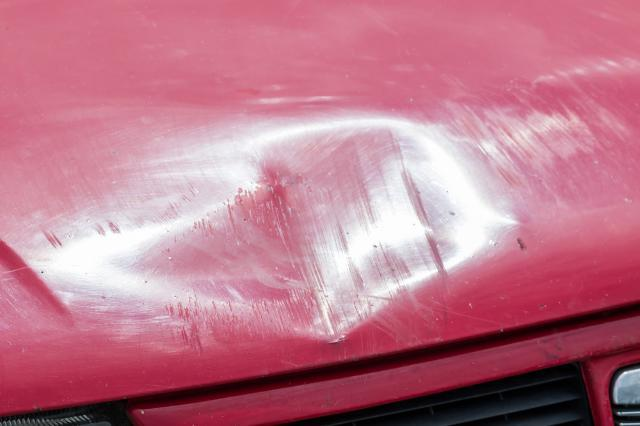dent: (66, 119, 501, 341)
